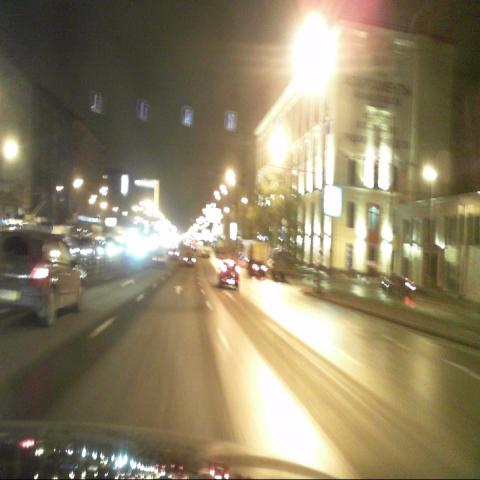5_15_2: (90, 93, 100, 112), (226, 112, 236, 131), (136, 101, 146, 117)
